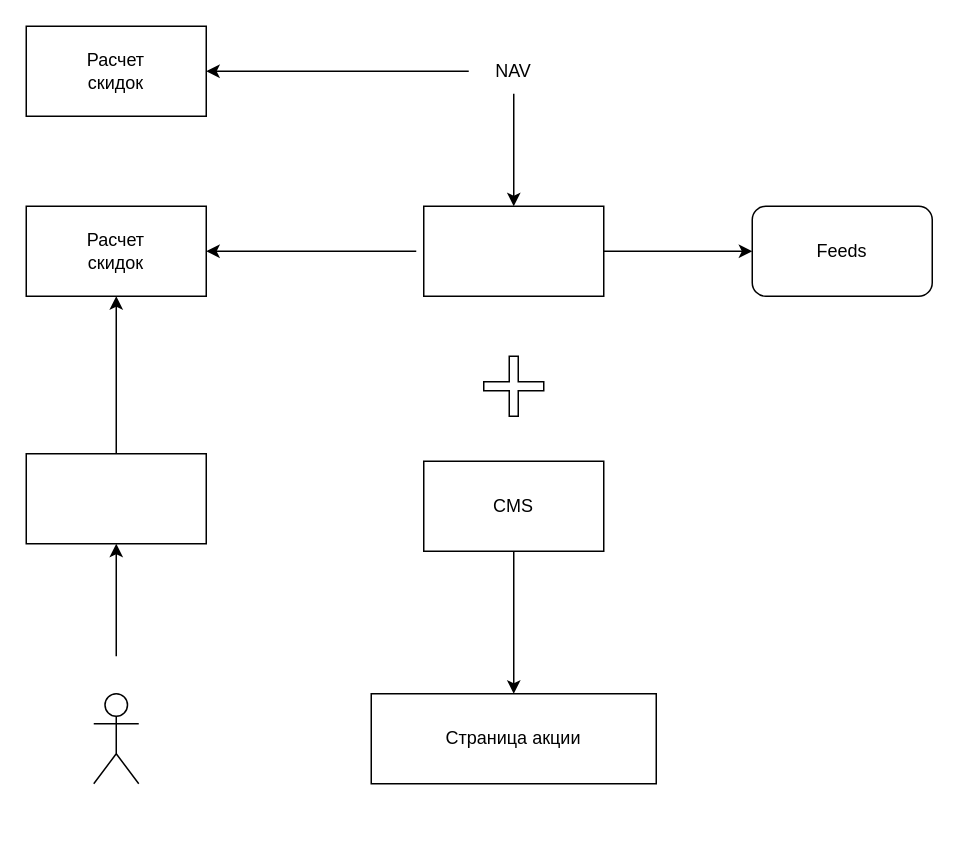
This 959x842 diagram has some shape labels left out. Each missing label, with the centre of its shape:
Actor: the point at 115,738
Заказ: the point at 115,498
ТАБЛИЦЫ: the point at 513,250
